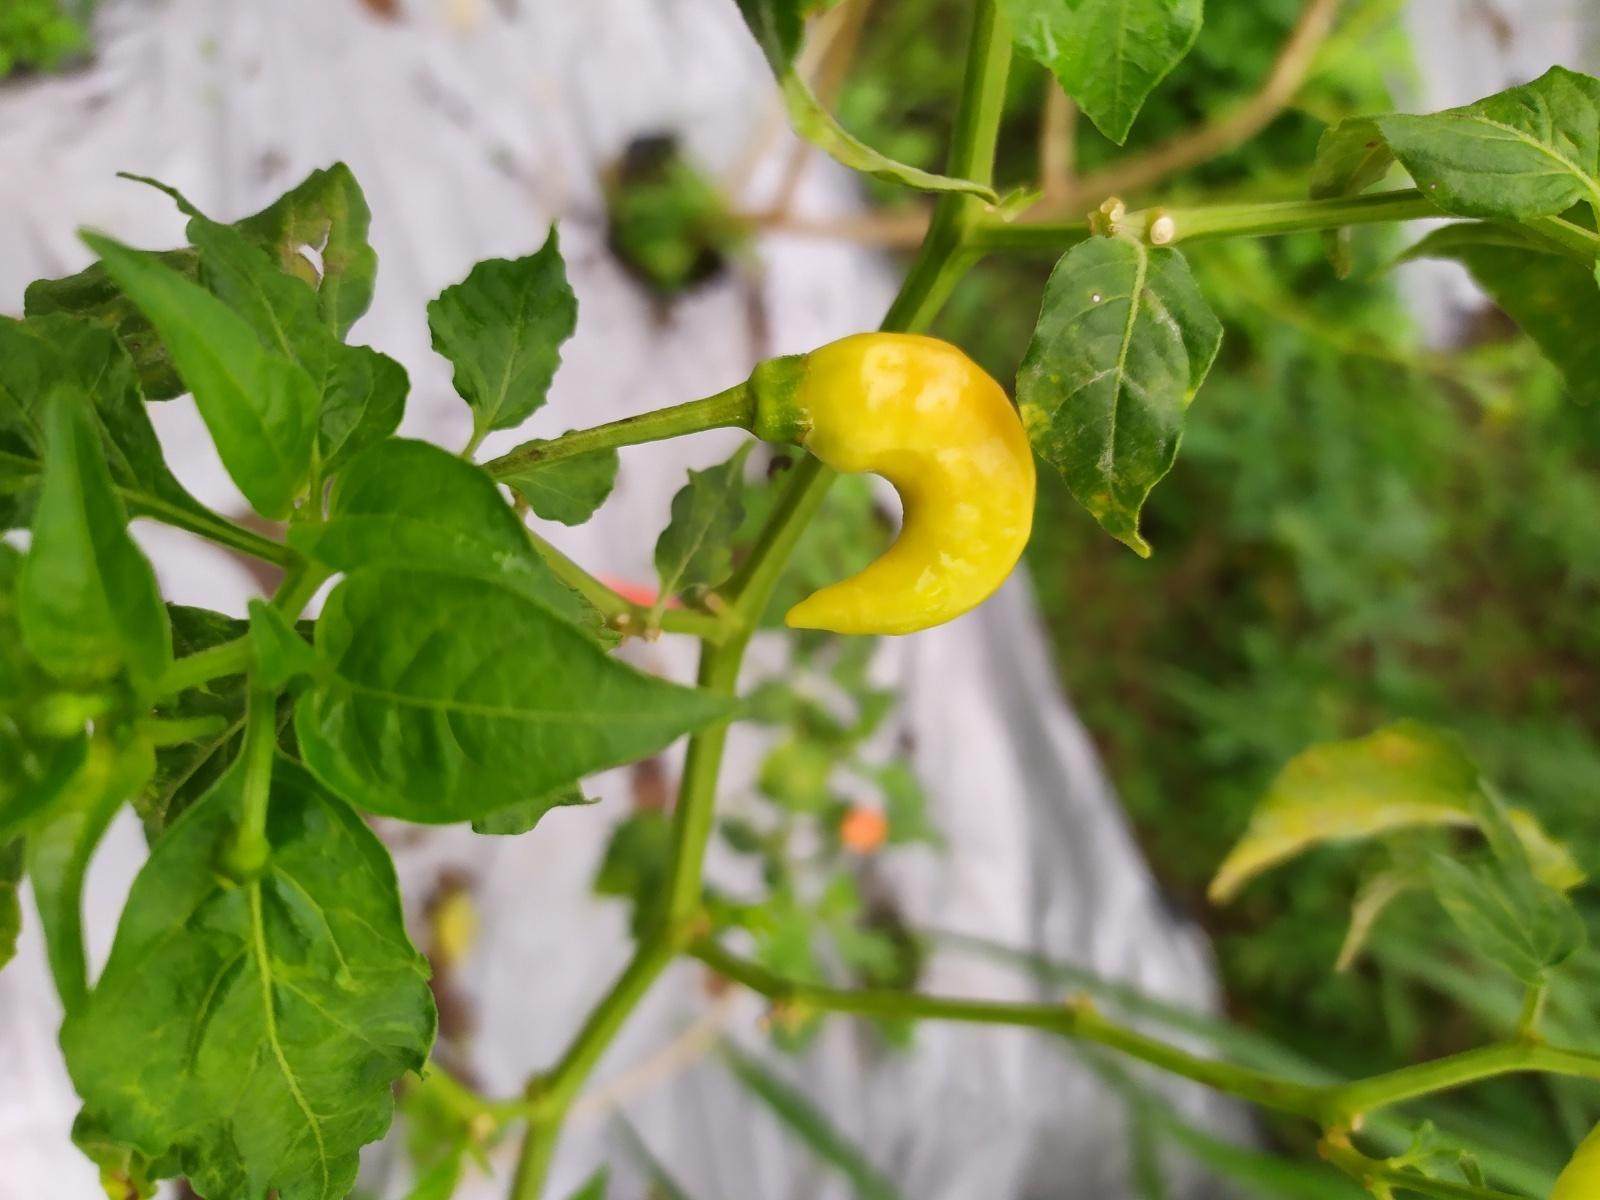cabai_normal: (765, 330, 1037, 635)
